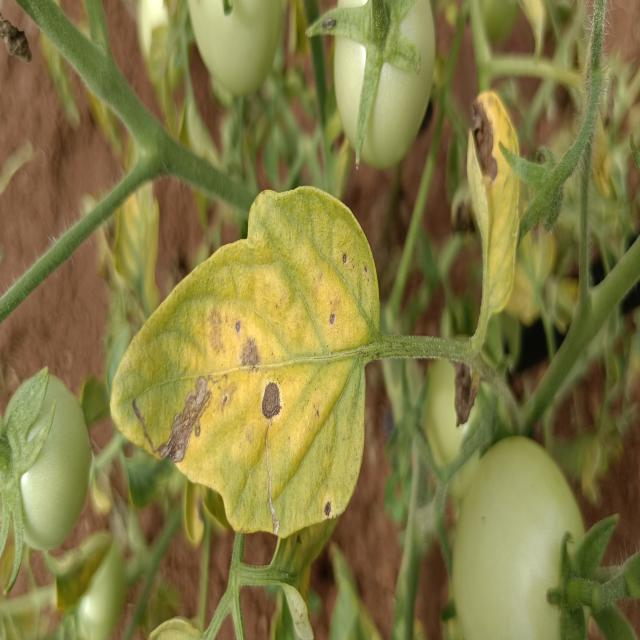tomato_early blight: (110, 186, 380, 536), (470, 84, 520, 318)
